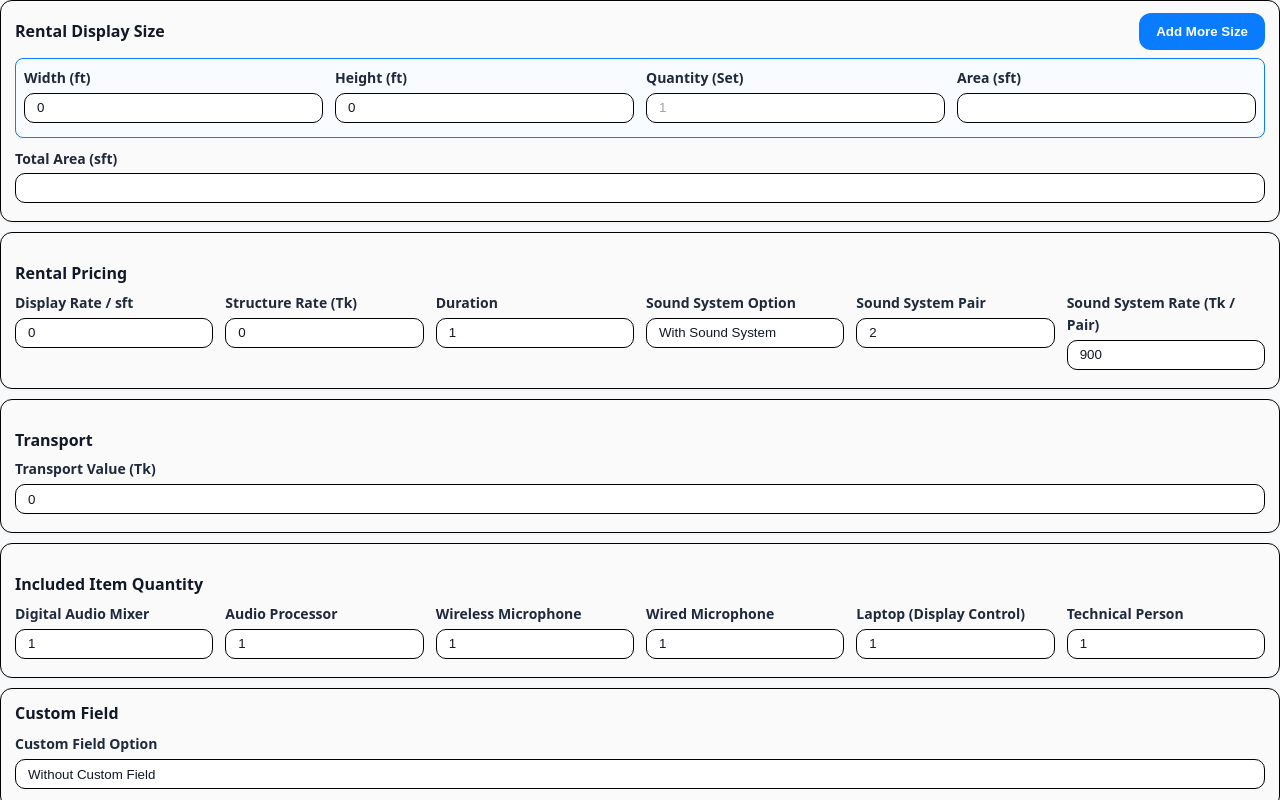
Test: Rental sound system is enabled by default and can be excluded from calculation
Select "Without Sound System" in the dropdown labelled "Sound System Option" at (745, 333), box [646,318,844,348]
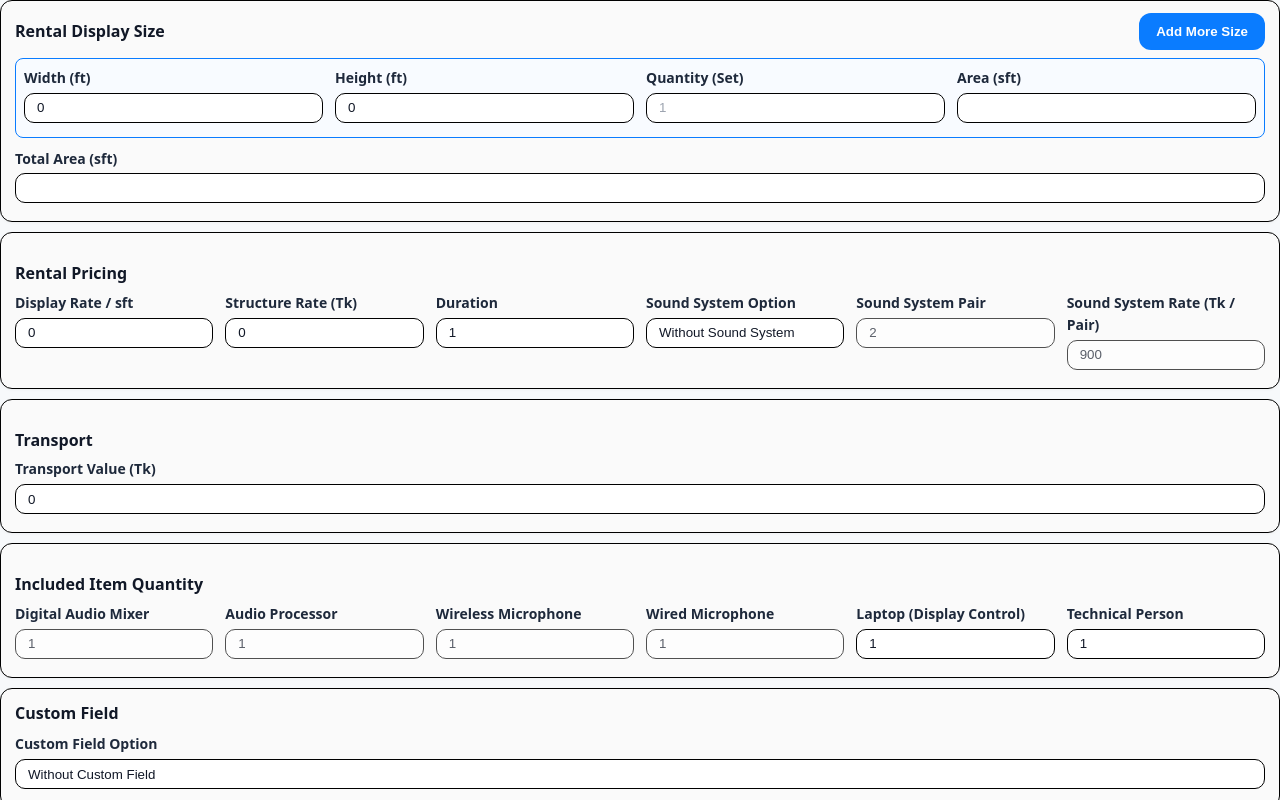
Expected: the number field labelled "Sound System Pair" is disabled, [856,318,1055,348]
Expected: the number field labelled "Sound System Rate (Tk / Pair)" is disabled, [1067,340,1265,370]
Expected: the field labelled "Digital Audio Mixer" is disabled, [15,628,213,658]
